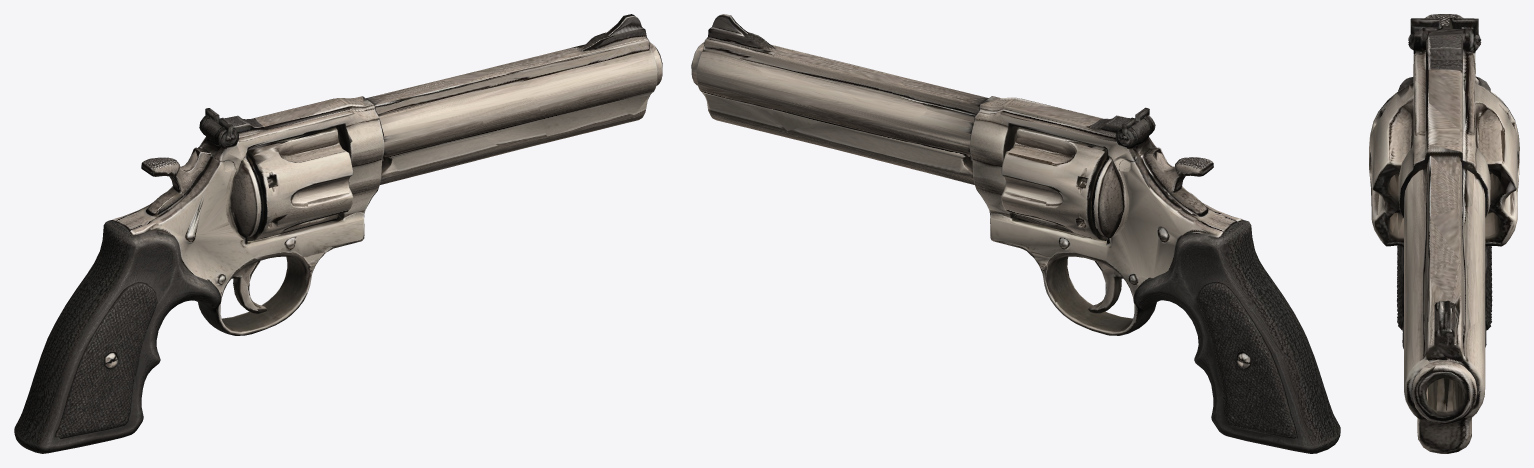
Rendered from magnum.glb.
3 views of the same model, side by side, from view 1: azimuth 30°, elevation 25°; view 2: azimuth 150°, elevation 25°; view 3: azimuth 270°, elevation 25° (orthographic). The views are drawn at different scales.
Parts seen in each view (by area): view 1: tripo_node_8720c530-4d23-4ed3-8f42-9ccea5122e81; view 2: tripo_node_8720c530-4d23-4ed3-8f42-9ccea5122e81; view 3: tripo_node_8720c530-4d23-4ed3-8f42-9ccea5122e81.
Part boxes in pixels (bbox=[...]): tripo_node_8720c530-4d23-4ed3-8f42-9ccea5122e81: bbox=[14, 14, 662, 453]; tripo_node_8720c530-4d23-4ed3-8f42-9ccea5122e81: bbox=[691, 14, 1340, 453]; tripo_node_8720c530-4d23-4ed3-8f42-9ccea5122e81: bbox=[1369, 14, 1519, 453].
Size of the model in its own units: 0.9802 by 0.4283 by 0.1416.
1 material, 1 textured.
